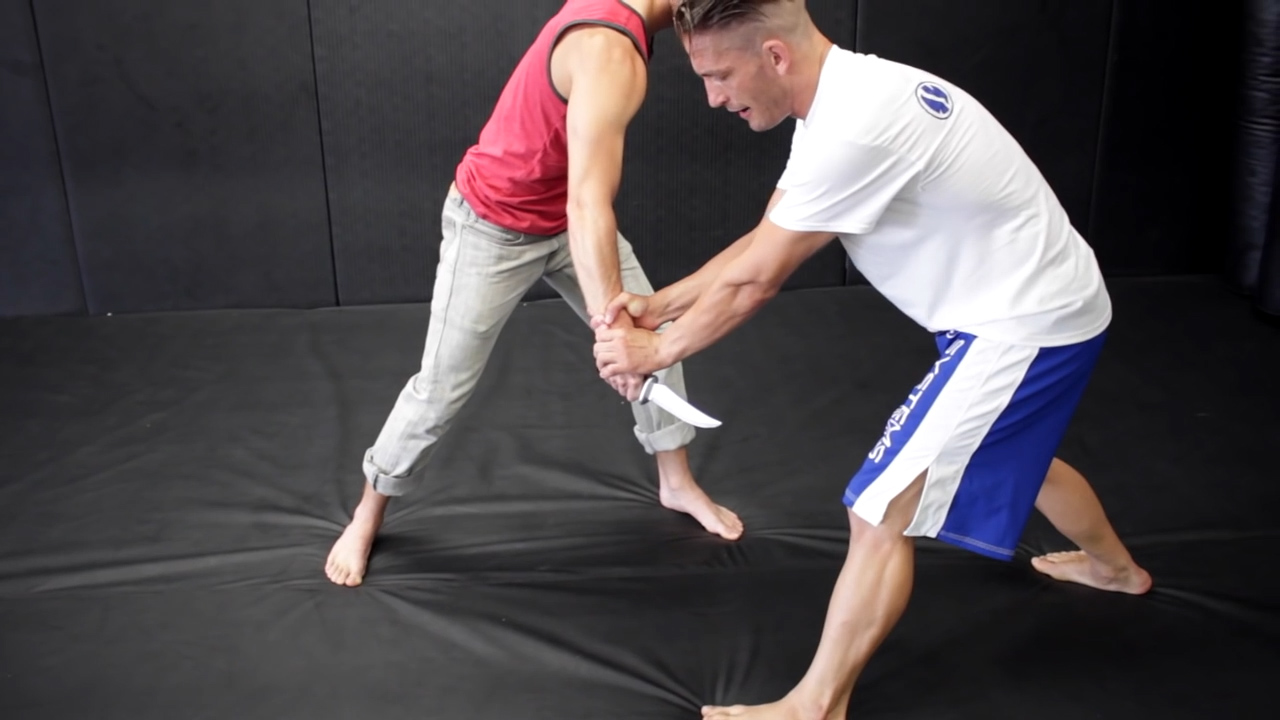knife: (588, 363, 731, 433)
